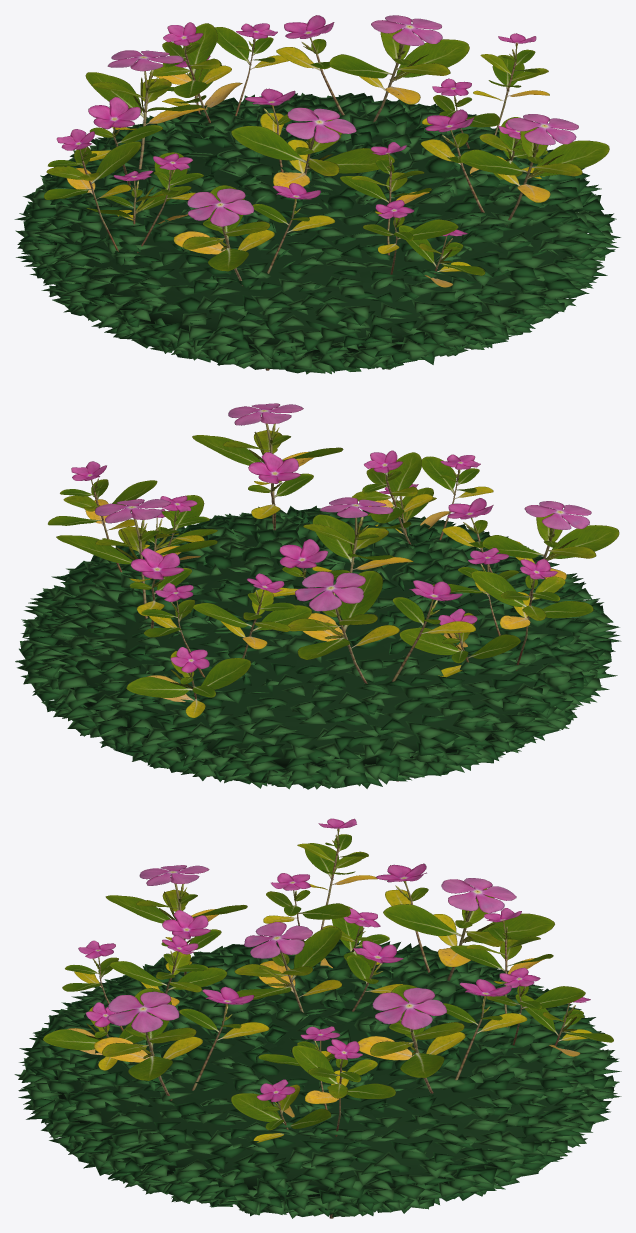
File: Periwinkle_Round.fbx
3 views of the same model, one above another, from view 1: azimuth 30°, elevation 25°; view 2: azimuth 150°, elevation 25°; view 3: azimuth 270°, elevation 25° (orthographic).
Visible parts, largest first — view 1: Periwinkle_Round; view 2: Periwinkle_Round; view 3: Periwinkle_Round.
Part boxes in pixels (x1,y1,x2,y2): Periwinkle_Round: (14, 15, 620, 374); Periwinkle_Round: (15, 403, 621, 789); Periwinkle_Round: (14, 818, 621, 1218).
Bounding box in the file's own units: 0.65 × 0.24 × 0.6385.
Materials: 5 (5 with a texture image).
